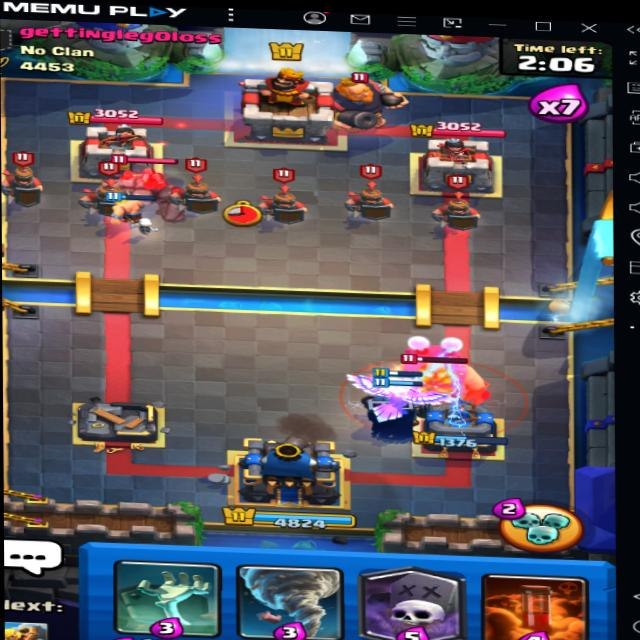electro-giant: (370, 342, 499, 419)
golem: (89, 154, 198, 224)
royal-giant: (303, 63, 416, 126)
royal-recruits: (342, 161, 404, 228), (252, 164, 319, 226), (429, 170, 487, 238), (170, 155, 231, 218), (1, 148, 49, 212), (72, 166, 127, 218)
